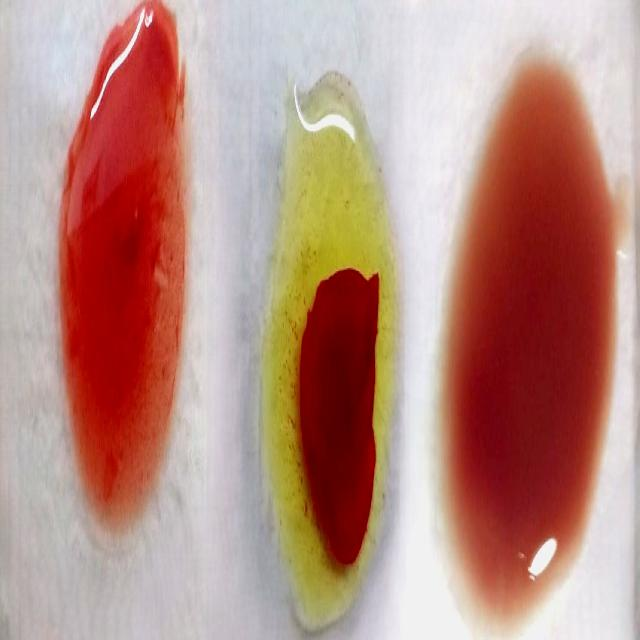B: (264, 68, 396, 629)
D: (66, 7, 185, 536)
